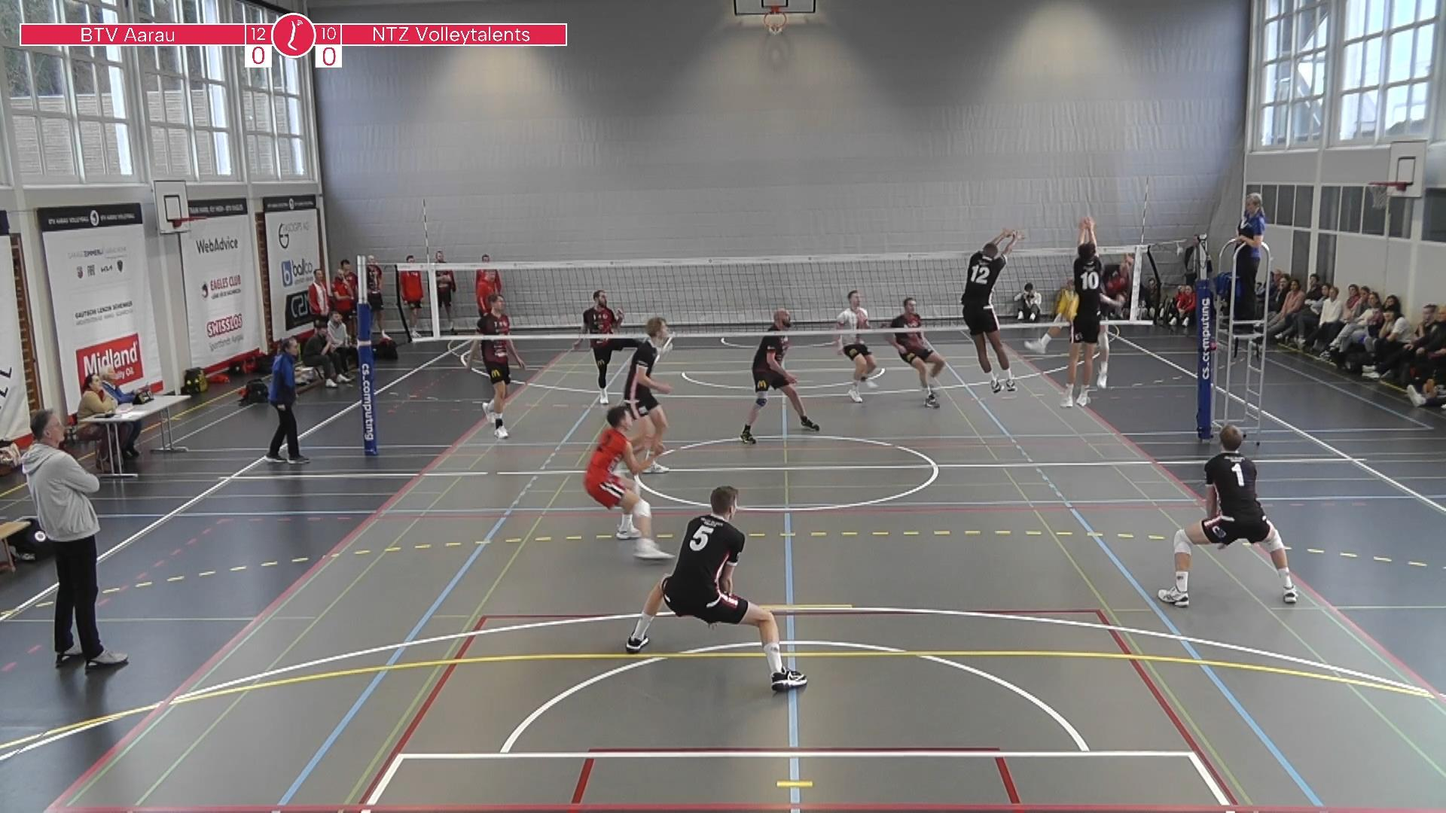attacco: (1095, 233, 1140, 403)
muro: (955, 225, 1029, 403), (1054, 213, 1110, 414)
